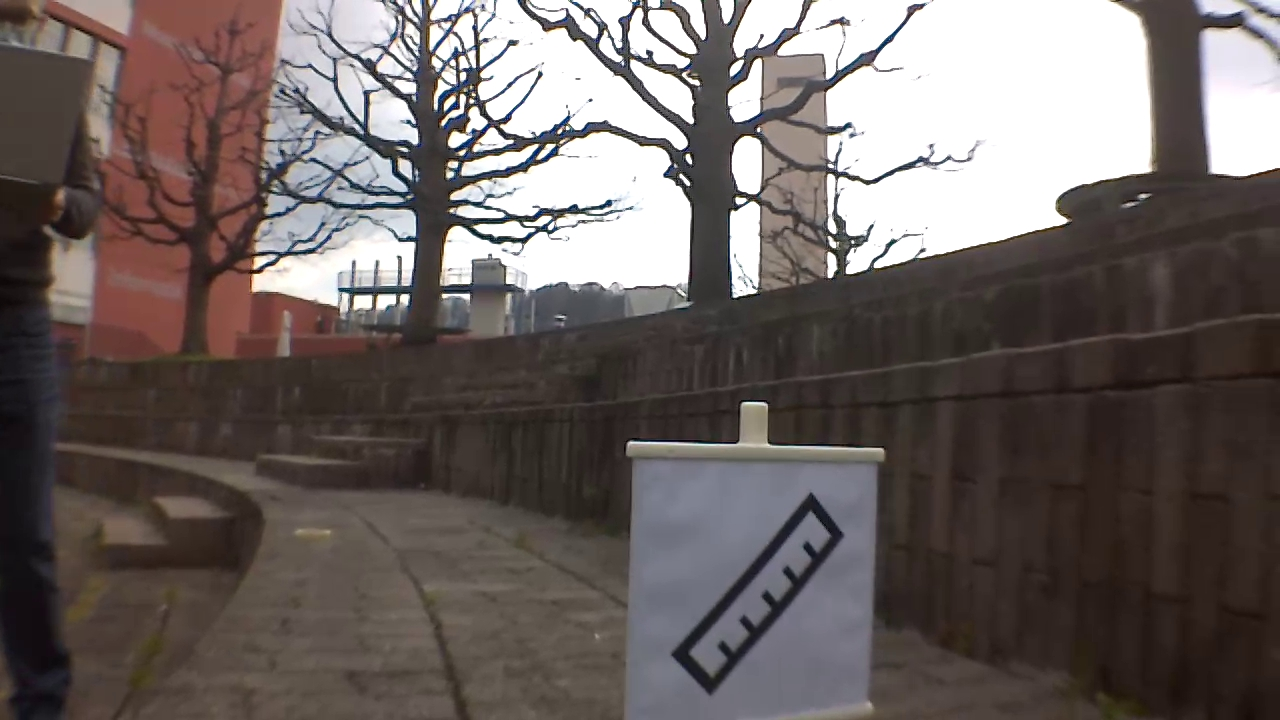ruler: (670, 494, 850, 696)
